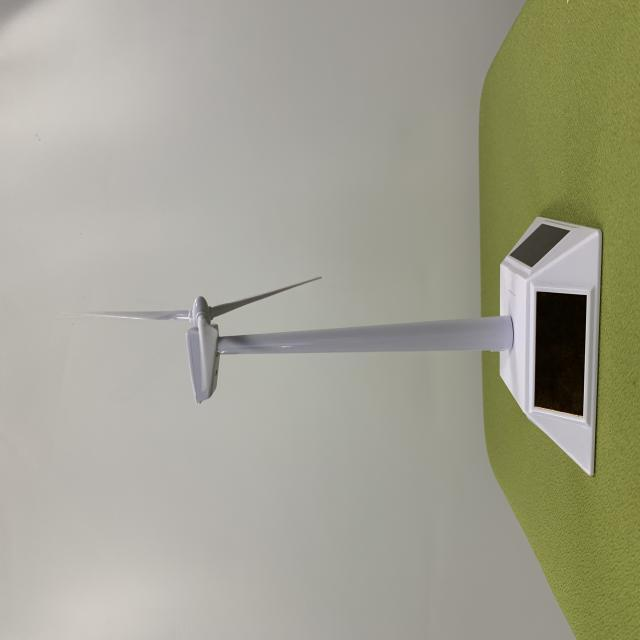solid-blade: (209, 277, 321, 318), (88, 309, 191, 319)
